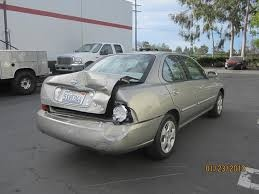Broken-glass: (111, 99, 133, 123)
Dent: (47, 74, 107, 114), (103, 121, 127, 142)
